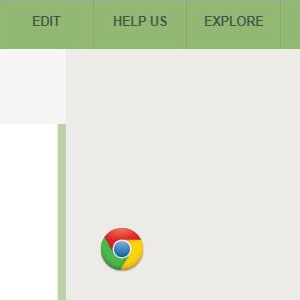chrome: (100, 227, 144, 272)
